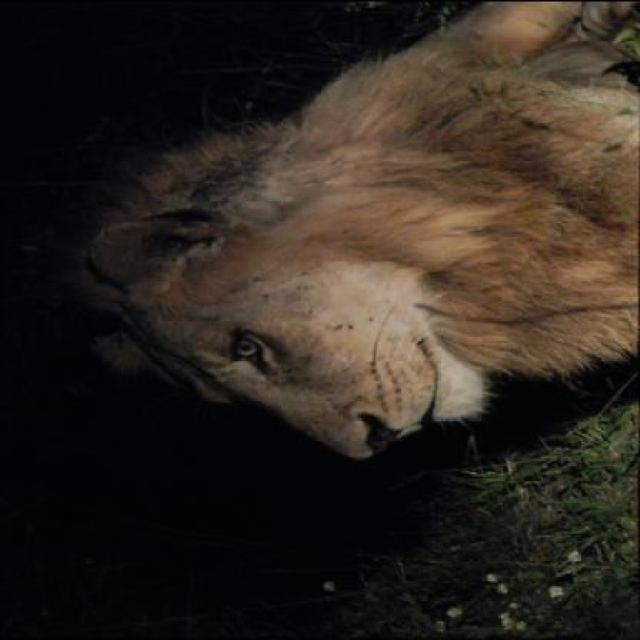Lion: (57, 2, 638, 466)
